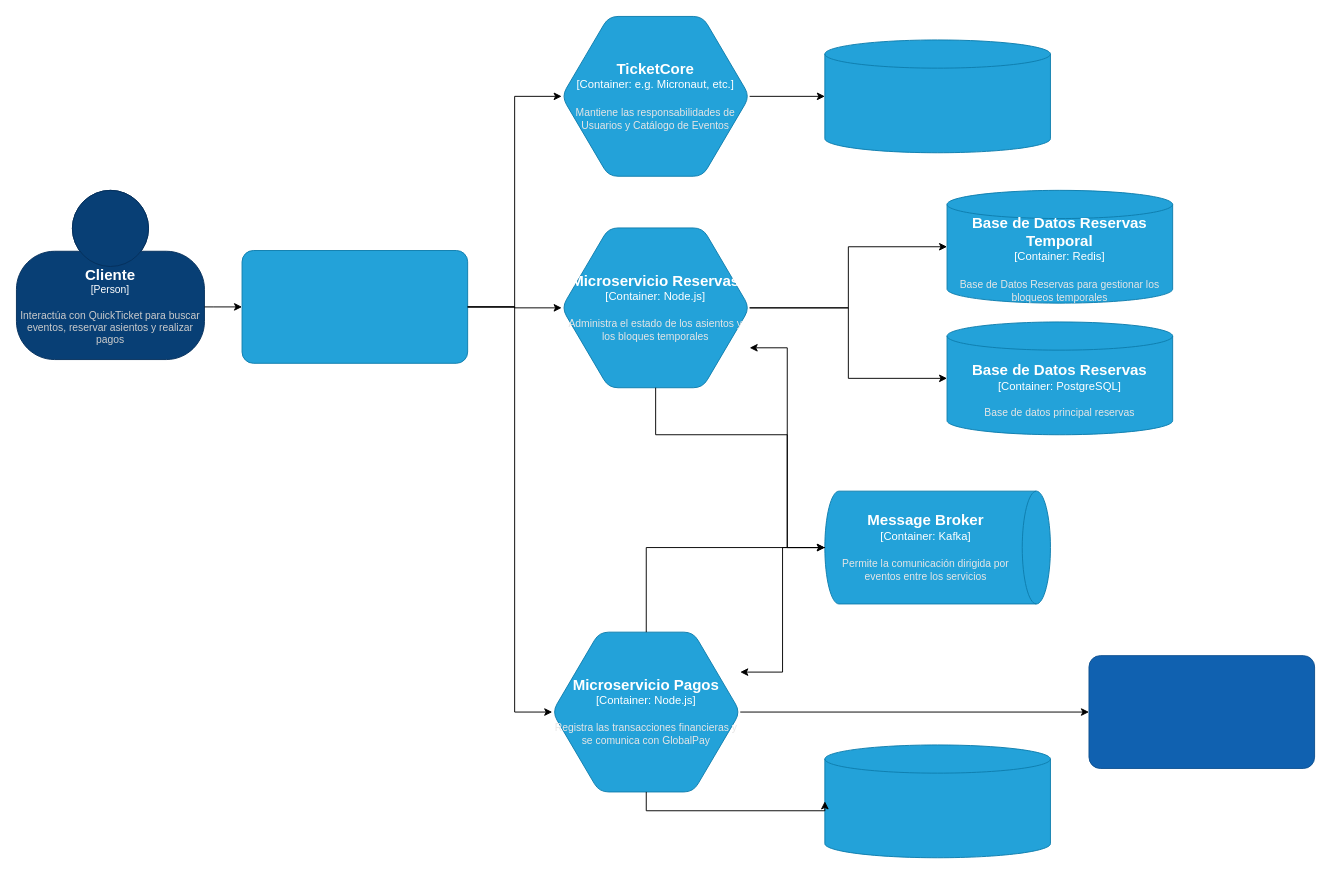
The diagram is 1331 pixels wide and 874 high, and some of its shapes have lost their labels. The centre of each missing label's shape, as x and y in pixels:
"Aplicación Web/Movil [Container: React/React Native] Interfaz web para clientes" goes at (354,306).
"Base de Datos Core [Container: PostgreSQL/MySQL] Base de Datos Core" goes at (937,96).
"Base de Datos Pagos [Container: PostgreSQL] Base de Datos Pagos" goes at (937,801).
"GlobalPay API [Software System] Pasarela de pagos externa" goes at (1201,711).
